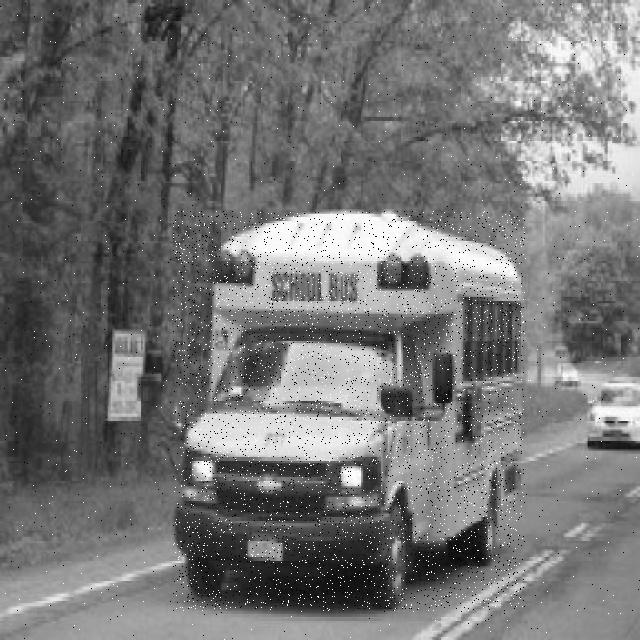Bus- Small: (173, 211, 525, 611)
